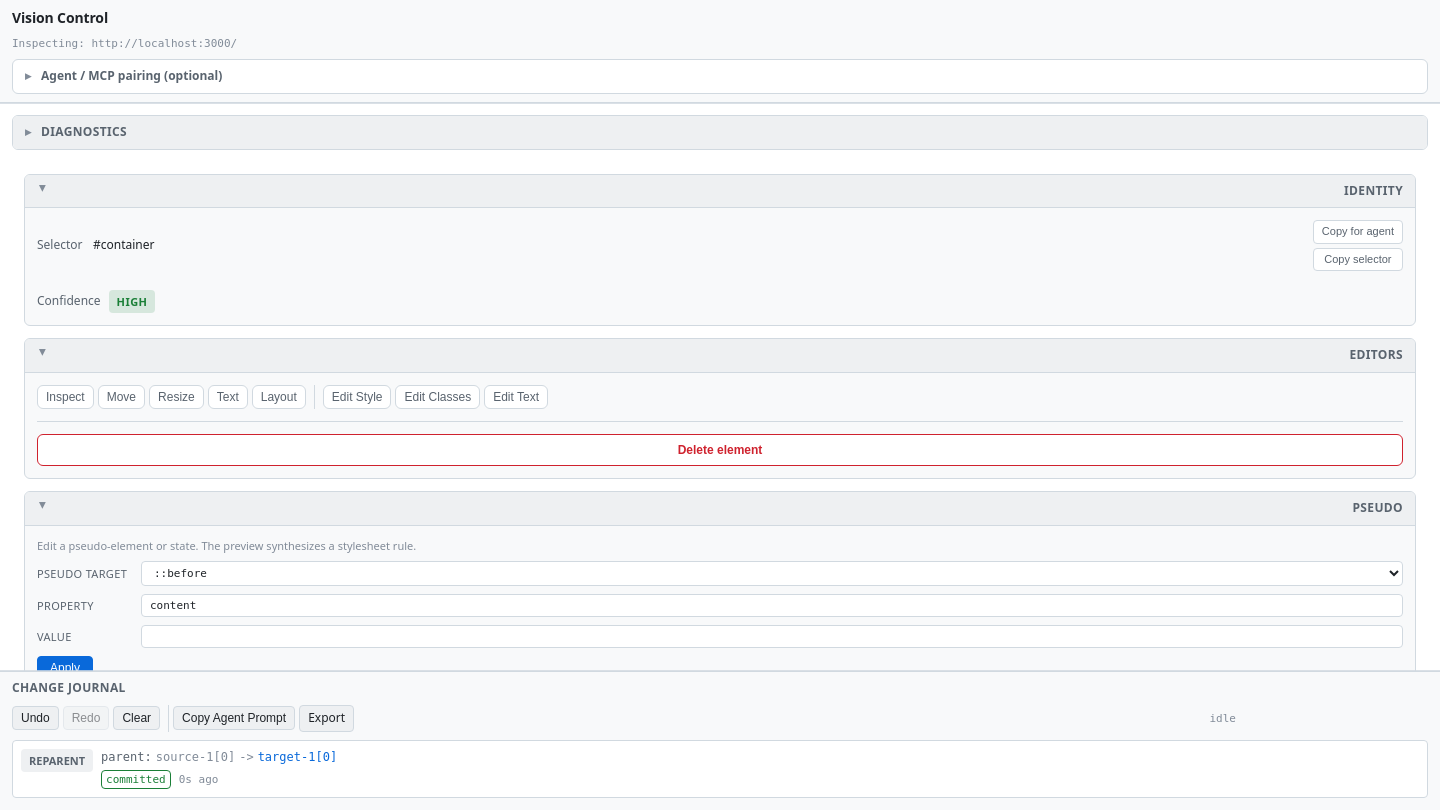
Test: App journal operations › copies an agent handoff prompt with URL, selection context, and journal entries
Expected: the text "Reparent" is shown, left=21, top=749, right=93, bottom=772
Click the button "Copy Agent Prompt" at (234, 718), box left=173, top=706, right=295, bottom=730
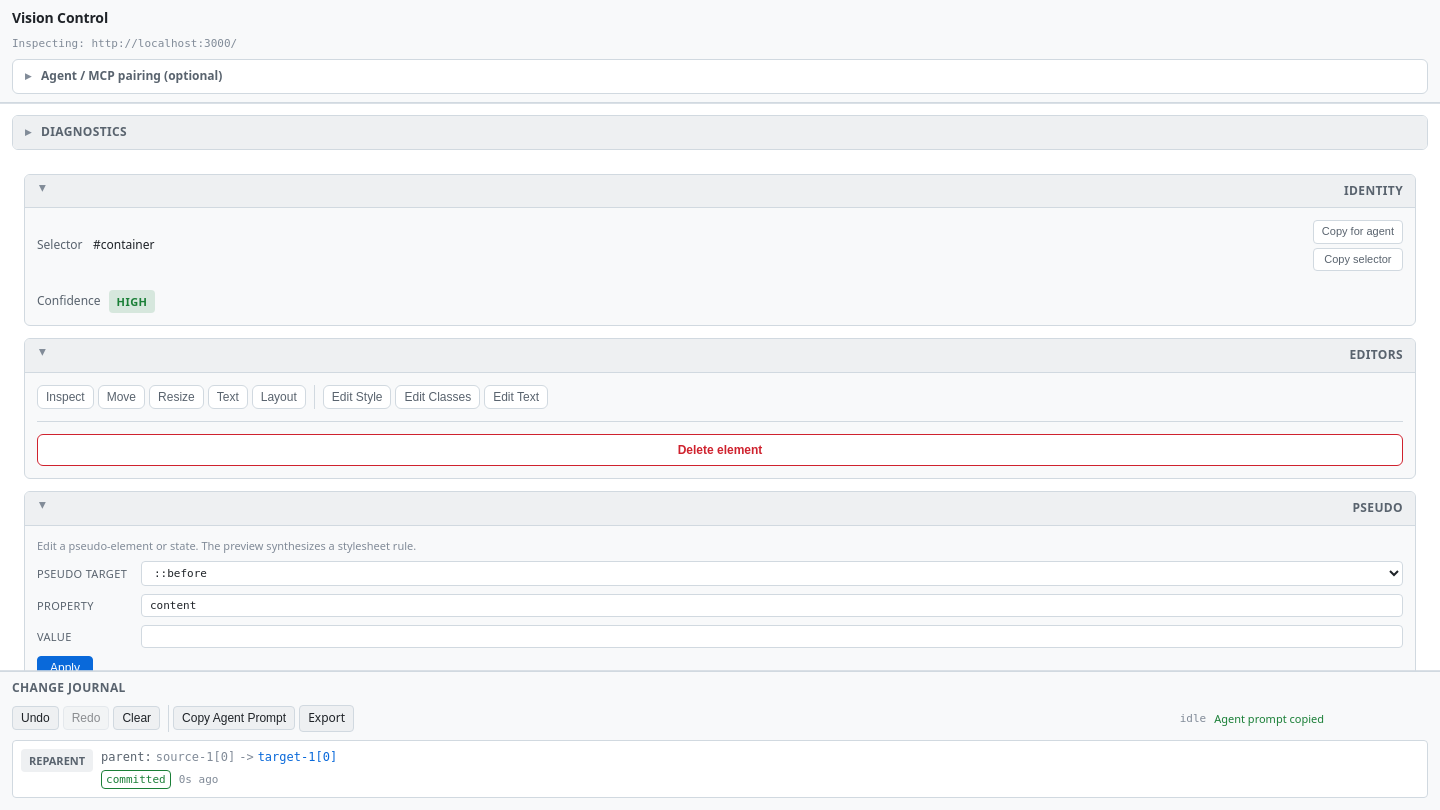
Expected: the text with test id "agent-prompt-copy-status" reads "Agent prompt copied", left=1214, top=711, right=1324, bottom=726
